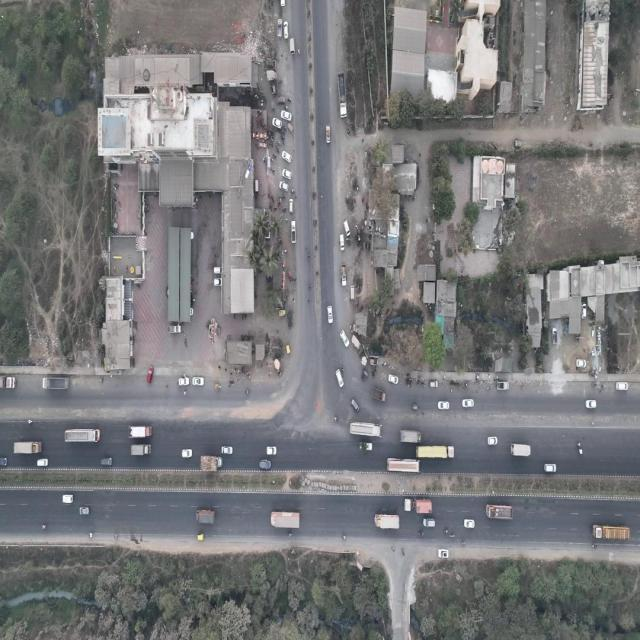3W: (286, 342, 291, 354), (279, 309, 286, 317), (363, 369, 369, 378), (288, 310, 294, 319), (288, 319, 293, 329), (288, 123, 293, 132), (411, 404, 418, 410), (198, 534, 204, 540), (406, 380, 412, 386)
Bus: (349, 421, 382, 437), (65, 429, 100, 442), (388, 458, 420, 472)
Cars: (341, 330, 350, 347), (336, 369, 344, 388), (178, 374, 189, 386), (259, 459, 271, 469), (281, 110, 291, 122), (272, 117, 282, 129), (282, 151, 292, 163), (351, 399, 360, 412), (327, 305, 333, 324), (438, 549, 449, 559), (464, 519, 475, 529), (279, 181, 289, 192), (423, 518, 435, 527), (616, 382, 628, 391), (585, 400, 597, 409), (544, 464, 556, 473), (462, 399, 474, 408), (438, 401, 450, 410), (192, 377, 204, 386), (147, 367, 153, 384), (344, 220, 350, 237), (282, 169, 292, 179), (101, 457, 112, 466), (182, 450, 193, 459), (222, 446, 233, 455), (37, 458, 49, 466), (63, 495, 73, 504), (576, 359, 586, 368), (488, 437, 498, 446), (389, 375, 398, 385), (581, 302, 586, 319), (552, 328, 557, 345), (267, 446, 276, 455), (80, 507, 90, 515), (284, 21, 288, 39), (276, 97, 286, 104), (340, 234, 344, 251), (214, 278, 222, 286), (430, 381, 439, 388), (290, 199, 294, 214), (214, 267, 222, 274), (351, 286, 354, 300)
LCV: (201, 456, 223, 471), (511, 444, 531, 457), (351, 335, 361, 350), (168, 325, 182, 334), (341, 264, 346, 287), (267, 70, 277, 81), (360, 442, 372, 451), (497, 382, 509, 390), (292, 220, 296, 244), (290, 37, 295, 55), (326, 124, 330, 143), (278, 19, 282, 38)
M2W: (341, 364, 345, 373), (42, 523, 47, 530), (342, 535, 347, 541), (449, 534, 455, 539), (333, 417, 338, 423), (308, 281, 311, 291), (391, 546, 395, 553), (307, 251, 310, 260), (298, 47, 301, 56), (461, 541, 466, 546), (245, 389, 250, 394), (290, 189, 295, 194), (269, 158, 274, 163), (27, 420, 33, 424), (114, 533, 118, 539), (286, 532, 292, 536), (418, 532, 424, 536), (576, 442, 582, 446), (579, 449, 583, 455), (361, 374, 364, 382), (282, 206, 286, 212), (271, 195, 275, 201), (283, 106, 289, 110), (350, 325, 353, 333), (402, 549, 405, 556), (294, 276, 297, 283), (88, 533, 93, 537), (444, 529, 448, 534), (273, 206, 277, 211), (273, 153, 277, 158), (271, 168, 275, 173), (283, 125, 287, 130), (421, 382, 425, 387), (282, 196, 286, 200), (287, 99, 291, 103), (281, 136, 285, 140), (592, 545, 597, 548)
MAV: (592, 525, 631, 540), (416, 446, 455, 458), (405, 499, 432, 514)
Truck: (272, 512, 300, 528), (338, 72, 347, 119), (486, 505, 513, 520), (375, 514, 400, 529), (14, 442, 42, 454), (43, 377, 69, 389), (128, 426, 152, 438), (400, 430, 422, 443), (196, 511, 215, 524), (131, 445, 151, 455), (372, 388, 386, 402)
